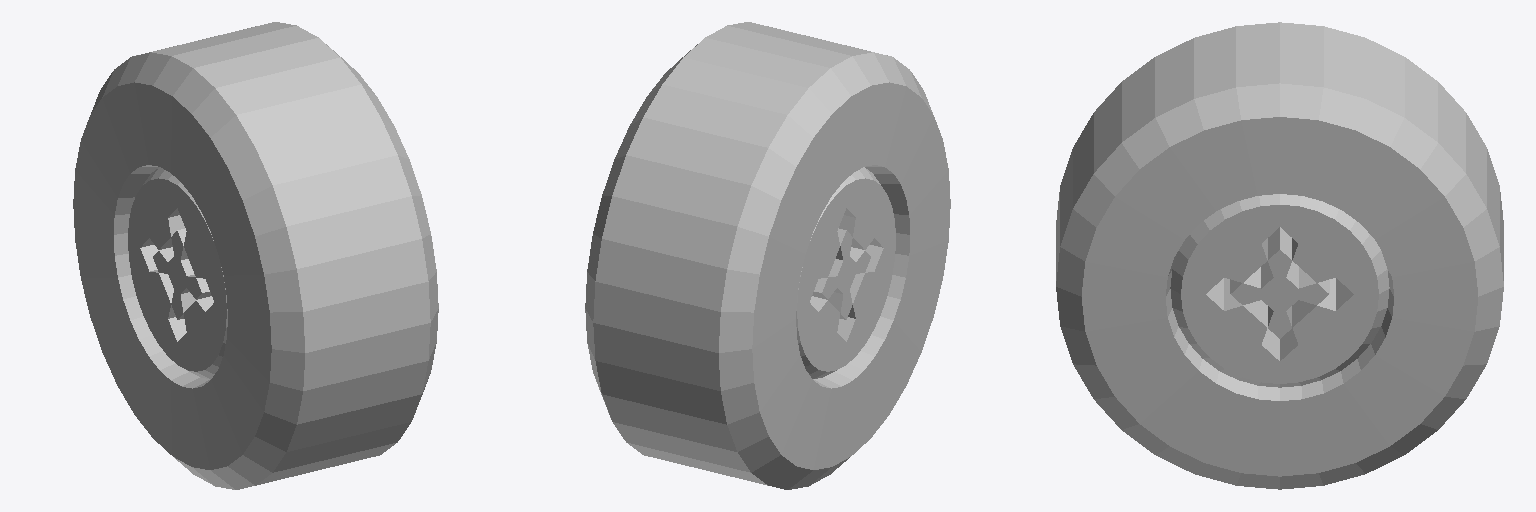
Rendered from RODA Centrado.obj.
The picture shows the model from 3 angles: view 1: azimuth 30°, elevation 25°; view 2: azimuth 150°, elevation 25°; view 3: azimuth 270°, elevation 25°; orthographic projection.
Parts seen in each view (by area): view 1: Roda_new_paint; view 2: Roda_new_paint; view 3: Roda_new_paint.
Part boxes in pixels (left/top/right/bottom): Roda_new_paint: left=73, top=22, right=438, bottom=489; Roda_new_paint: left=585, top=22, right=950, bottom=489; Roda_new_paint: left=1056, top=22, right=1503, bottom=489.
Size of the model in its own units: 0.6777 by 1.54 by 1.54.